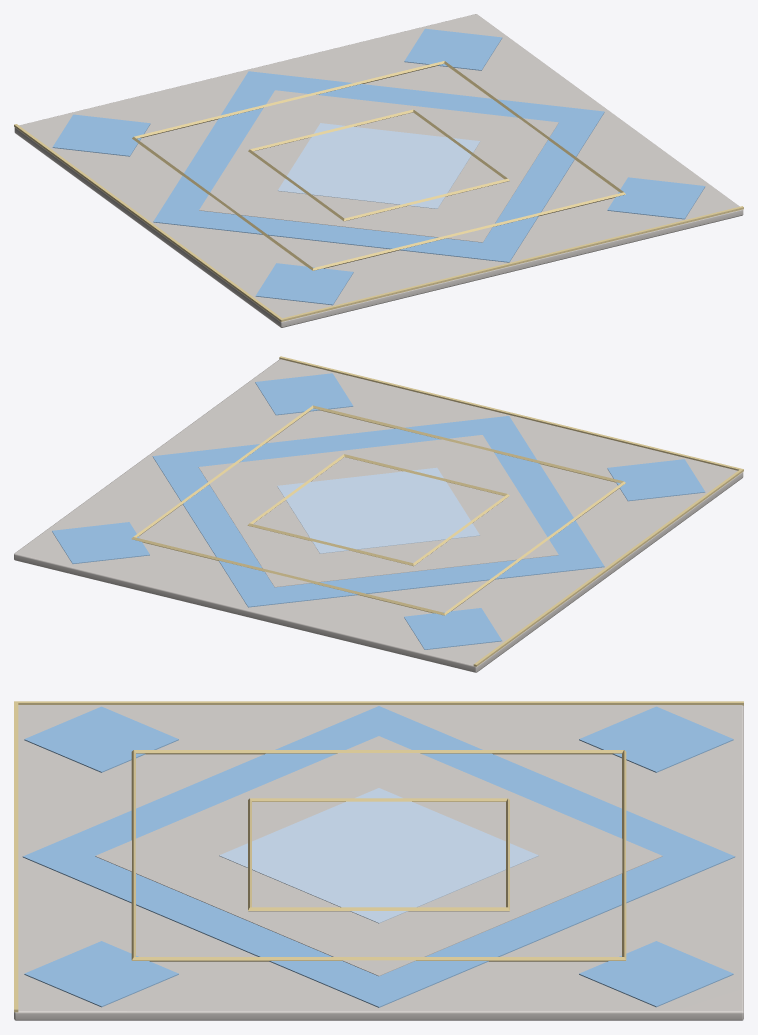
Rendered from floor_blue_diamond.glb.
3 views of the same model, one above another, from view 1: azimuth 30°, elevation 25°; view 2: azimuth 150°, elevation 25°; view 3: azimuth 270°, elevation 25° (orthographic). The views are drawn at different scales.
Parts seen in each view (by area): view 1: floor_blue_diamond; view 2: floor_blue_diamond; view 3: floor_blue_diamond.
Boxes of the visible parts, bbox=[...] form: floor_blue_diamond: bbox=[14, 14, 743, 327]; floor_blue_diamond: bbox=[14, 356, 743, 672]; floor_blue_diamond: bbox=[14, 701, 743, 1020].
Size of the model in its own units: 2 by 0.044 by 2.
